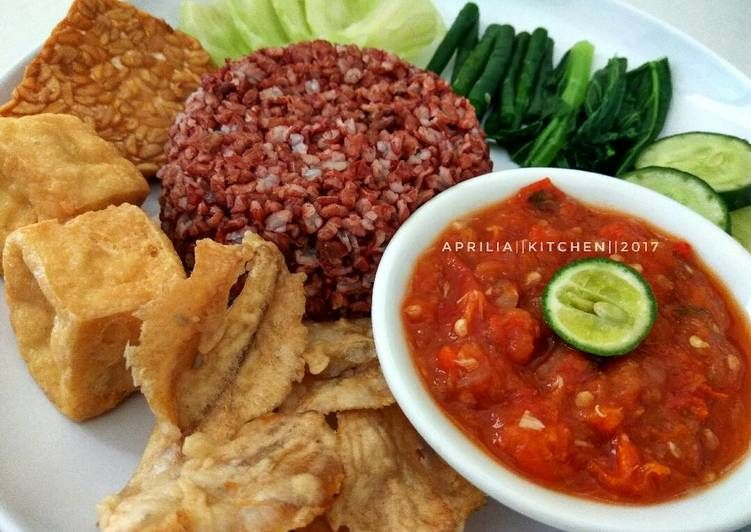Nasi Merah: (148, 58, 501, 298)
